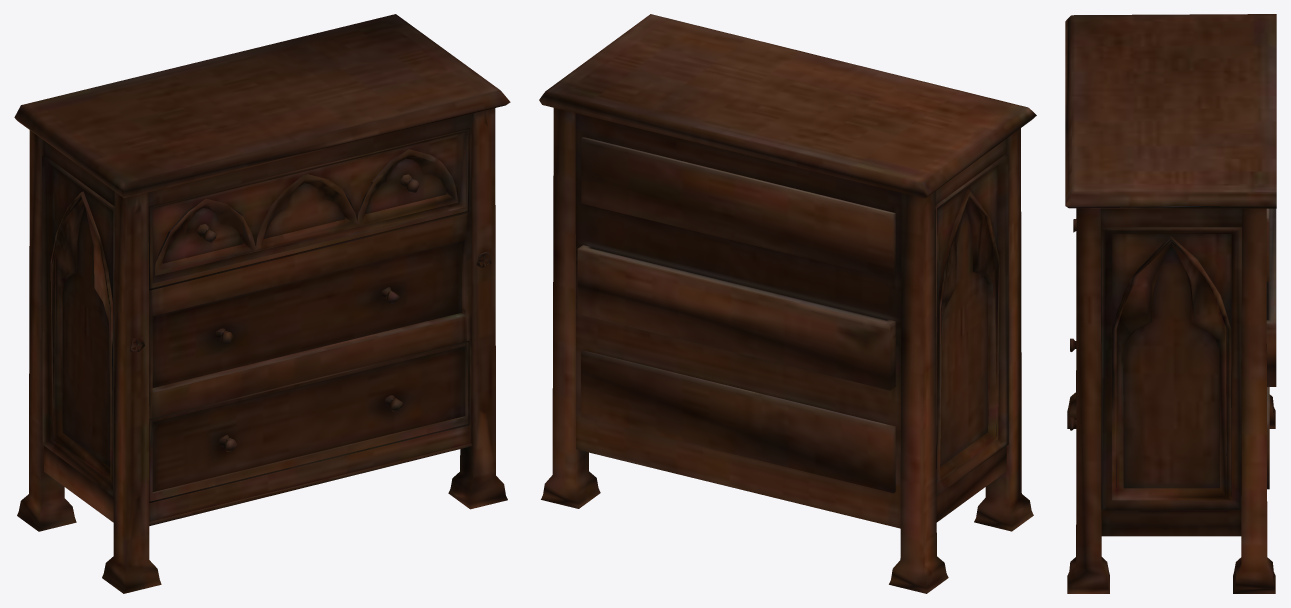
File: commode.glb
3 renders of one model, left to right at view 1: azimuth 30°, elevation 25°; view 2: azimuth 150°, elevation 25°; view 3: azimuth 270°, elevation 25°, orthographic. The views are drawn at different scales.
Visible parts, largest first — view 1: lo; view 2: lo; view 3: lo.
Part boxes in pixels (<box>): lo: <box>14,14,510,593</box>; lo: <box>539,14,1036,593</box>; lo: <box>1065,14,1276,593</box>.
Size of the model in its own units: 1.2 by 1.21 by 0.5814.
1 material, 1 textured.
